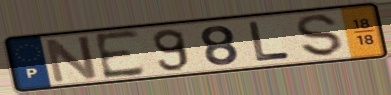8: (199, 24, 242, 66)
9: (151, 27, 191, 72)
E: (91, 27, 148, 82)
L: (247, 19, 294, 64)
N: (43, 34, 101, 86)
S: (294, 13, 346, 58)
